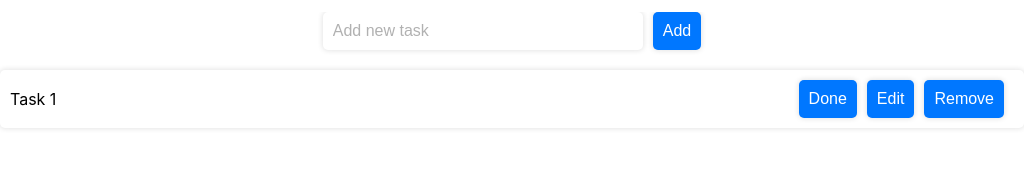
ToDoList component › should edit a task when the Edit button is clicked
Click the button with test id "todo-item-1-edit": {"x": 891, "y": 99} [867,80,914,118]
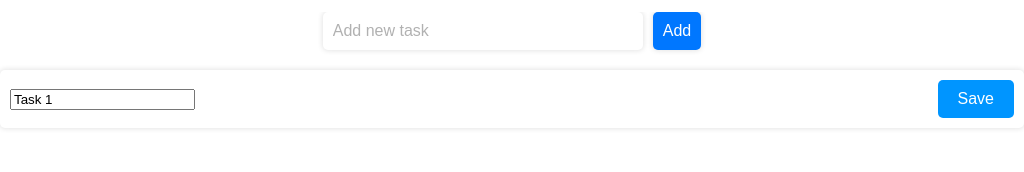
Replace the text in the field with test id "todo-item-1-edit-input" with "Edited Task": {"x": 102, "y": 99} [10,88,195,110]
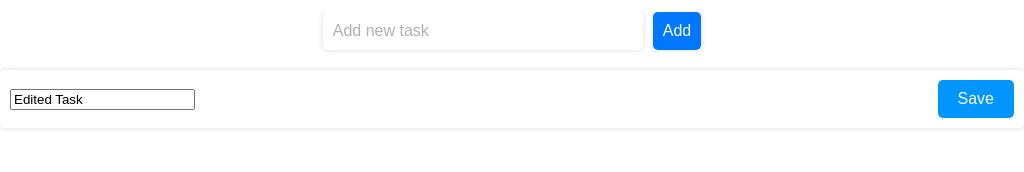
Click the button with test id "todo-item-1-save": {"x": 976, "y": 99} [938,80,1014,118]
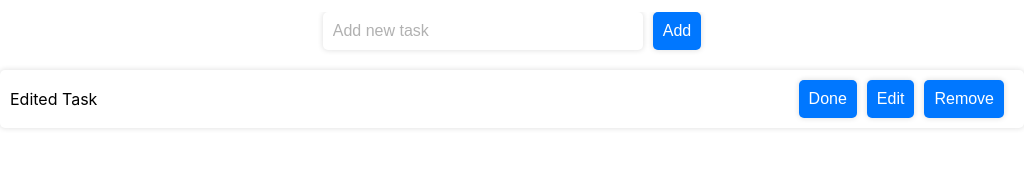
Expected: the text with test id "todo-item-1-task" reads "Edited Task", [10,89,97,109]
